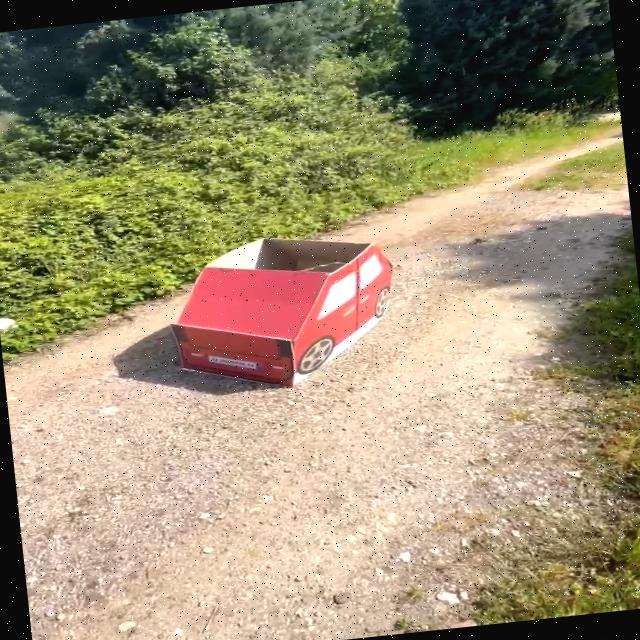red_car: (104, 221, 443, 412)
